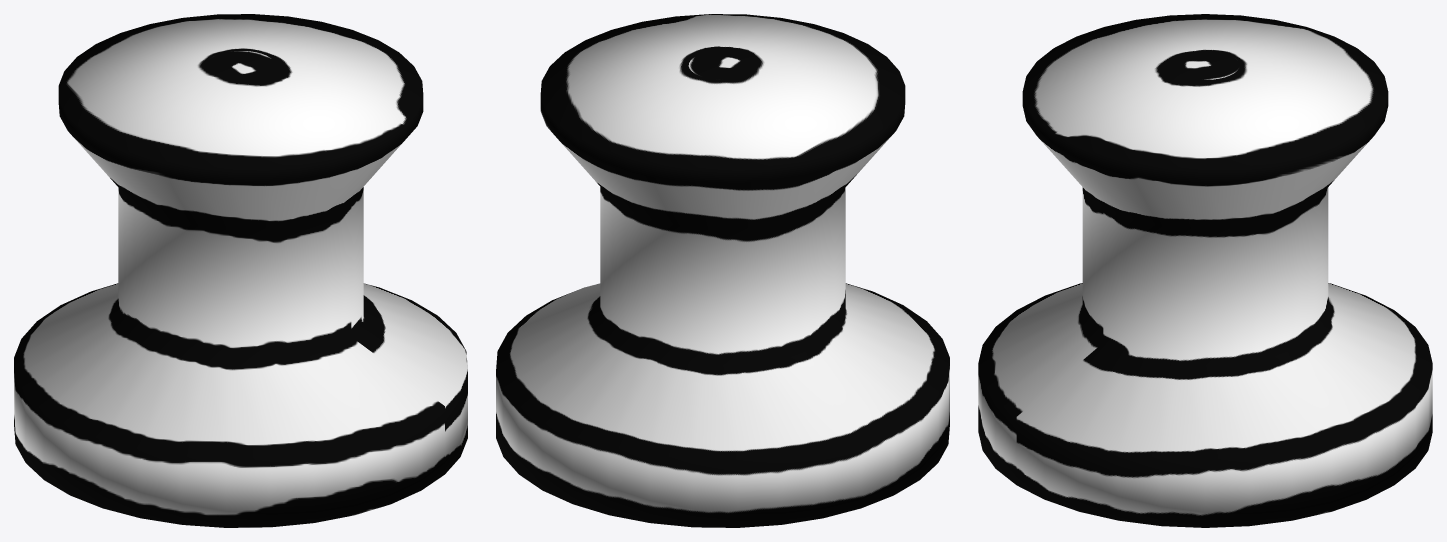
File: PushPin.fbx
3 renders of one model, left to right at view 1: azimuth 30°, elevation 25°; view 2: azimuth 150°, elevation 25°; view 3: azimuth 270°, elevation 25°, orthographic.
Visible parts, largest first — view 1: Cylinder; view 2: Cylinder; view 3: Cylinder.
Boxes of the visible parts, left/top/right/bottom form: Cylinder: left=14, top=14, right=467, bottom=527; Cylinder: left=496, top=14, right=949, bottom=527; Cylinder: left=978, top=14, right=1432, bottom=527.
Size of the model in its own units: 112 by 99.7 by 112.
Materials: 1 (1 with a texture image).
